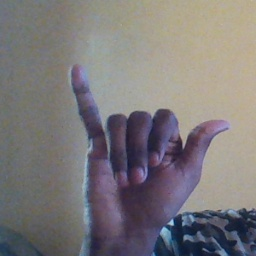J: (65, 63, 230, 240)
